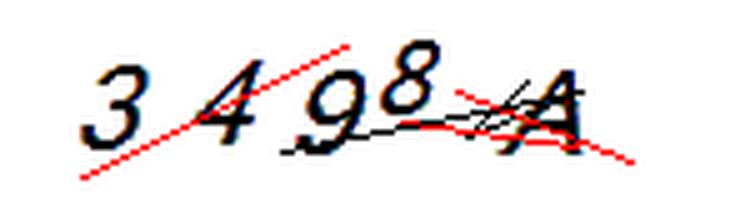3: (75, 58, 153, 156)
4: (188, 54, 272, 153)
8: (374, 27, 445, 118)
9: (290, 61, 370, 164)
A: (489, 62, 603, 164)
